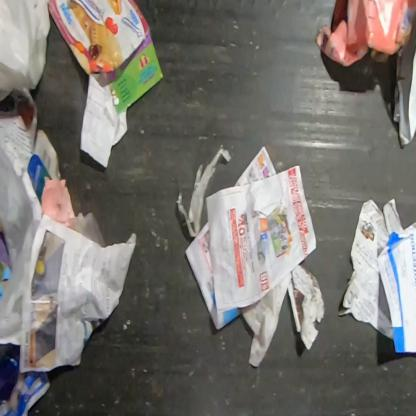cardboard: (47, 0, 164, 118), (314, 0, 415, 70)
soft_plastic: (0, 0, 53, 120), (175, 144, 234, 239), (59, 211, 108, 248)
